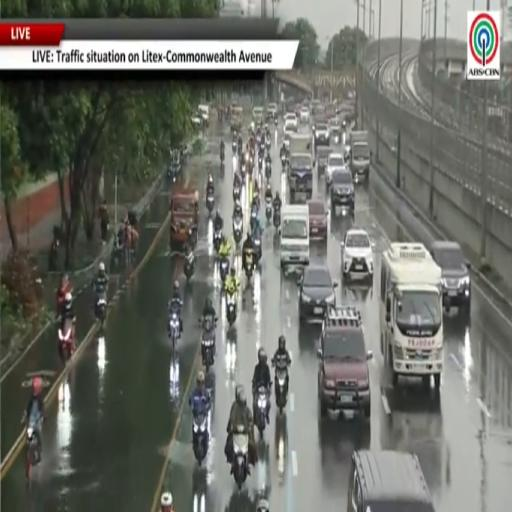car: (318, 307, 372, 418), (348, 451, 435, 511), (430, 240, 471, 313), (298, 264, 338, 322), (341, 229, 373, 281), (330, 168, 354, 214), (307, 199, 327, 241), (325, 152, 345, 185), (316, 147, 332, 174), (328, 122, 342, 145), (315, 123, 329, 146), (283, 126, 295, 151), (198, 104, 209, 126), (285, 114, 298, 131), (252, 107, 263, 124), (267, 103, 278, 120), (300, 105, 309, 123)
jeepney: (170, 184, 199, 250)
motorcycle: (232, 426, 248, 489), (192, 413, 210, 466), (26, 419, 41, 479), (201, 317, 215, 373), (255, 387, 269, 437), (58, 319, 74, 361), (275, 363, 287, 413), (168, 307, 180, 350), (95, 291, 107, 326), (226, 294, 236, 326), (184, 251, 195, 280), (232, 217, 243, 244), (244, 251, 254, 280), (219, 258, 229, 284), (250, 206, 258, 230), (213, 230, 222, 251), (206, 191, 214, 214), (254, 236, 261, 262), (273, 208, 280, 229), (266, 198, 272, 220), (233, 185, 241, 201), (265, 162, 271, 181), (241, 163, 246, 180), (259, 141, 265, 155), (281, 155, 286, 171), (258, 156, 263, 171), (232, 140, 237, 154), (220, 150, 225, 164), (238, 139, 242, 156), (256, 134, 261, 147), (266, 138, 270, 152), (220, 162, 224, 174)
truck: (380, 243, 443, 390), (288, 134, 313, 202), (350, 131, 371, 183)
